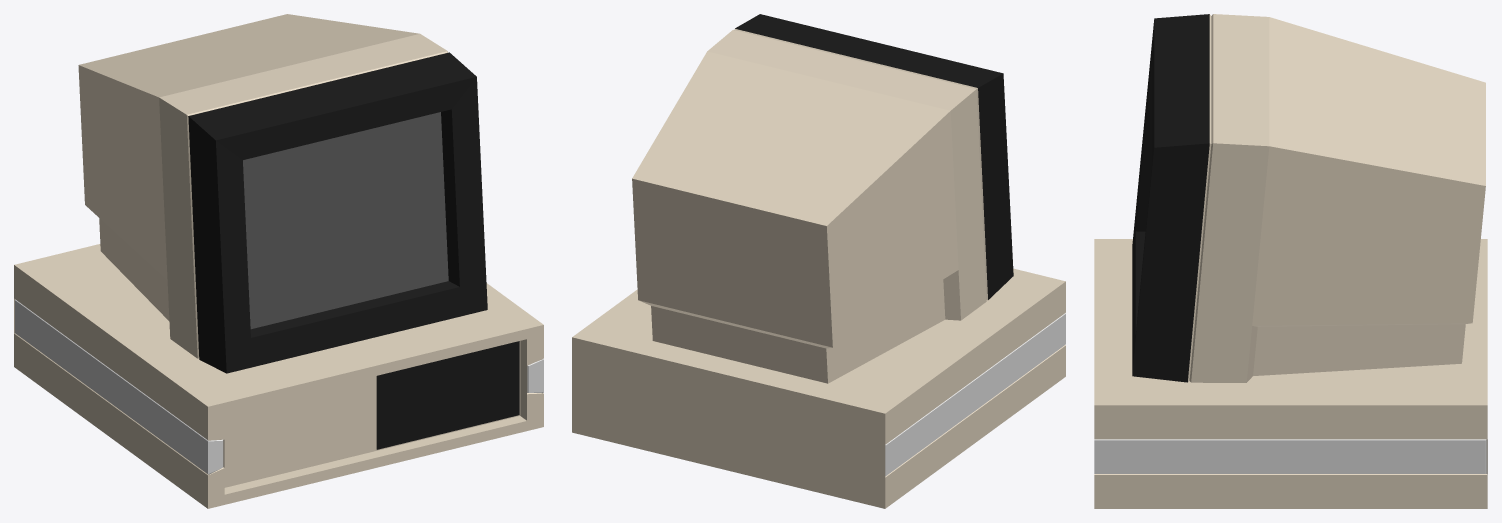
Rendered from 2komputer.glb.
The picture shows the model from 3 angles, left to right: view 1: azimuth 30°, elevation 25°; view 2: azimuth 150°, elevation 25°; view 3: azimuth 270°, elevation 25°; orthographic projection. The views are drawn at different scales.
Visible parts, largest first — view 1: Куб.001; view 2: Куб.001; view 3: Куб.001.
Boxes of the visible parts, x1,y1,x2,y2 form: Куб.001: [14, 14, 543, 508]; Куб.001: [572, 14, 1065, 508]; Куб.001: [1094, 14, 1487, 508].
Size of the model in its own units: 2.8 by 2.72 by 2.8.
